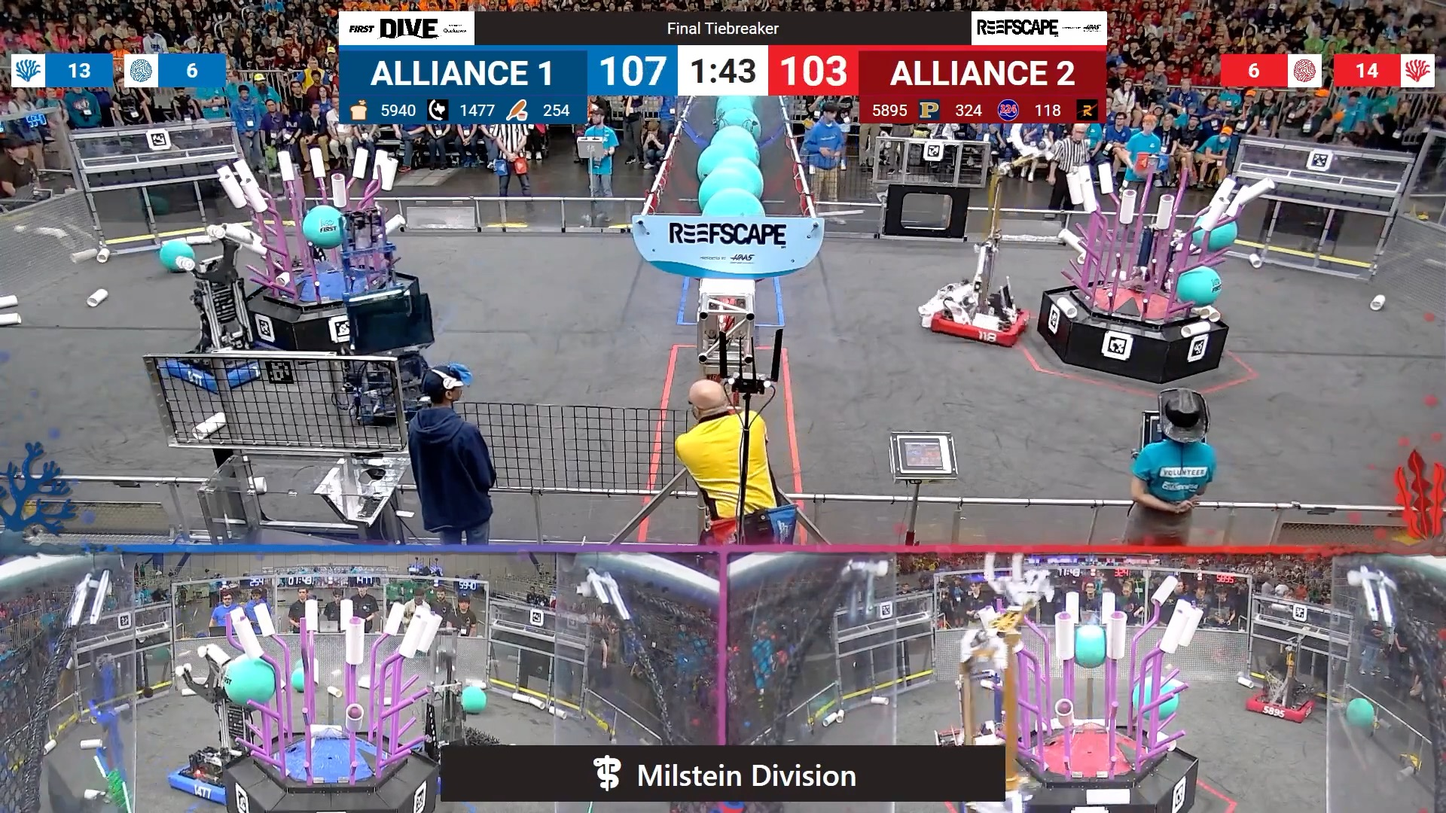bumpers: (922, 297, 1035, 350), (163, 346, 281, 396), (159, 748, 246, 805), (1237, 691, 1322, 726)
